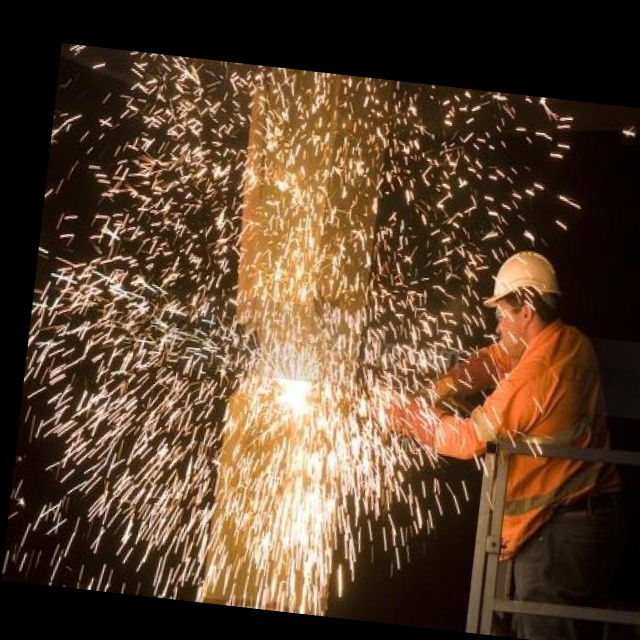Con_Casco: (478, 247, 565, 347)
